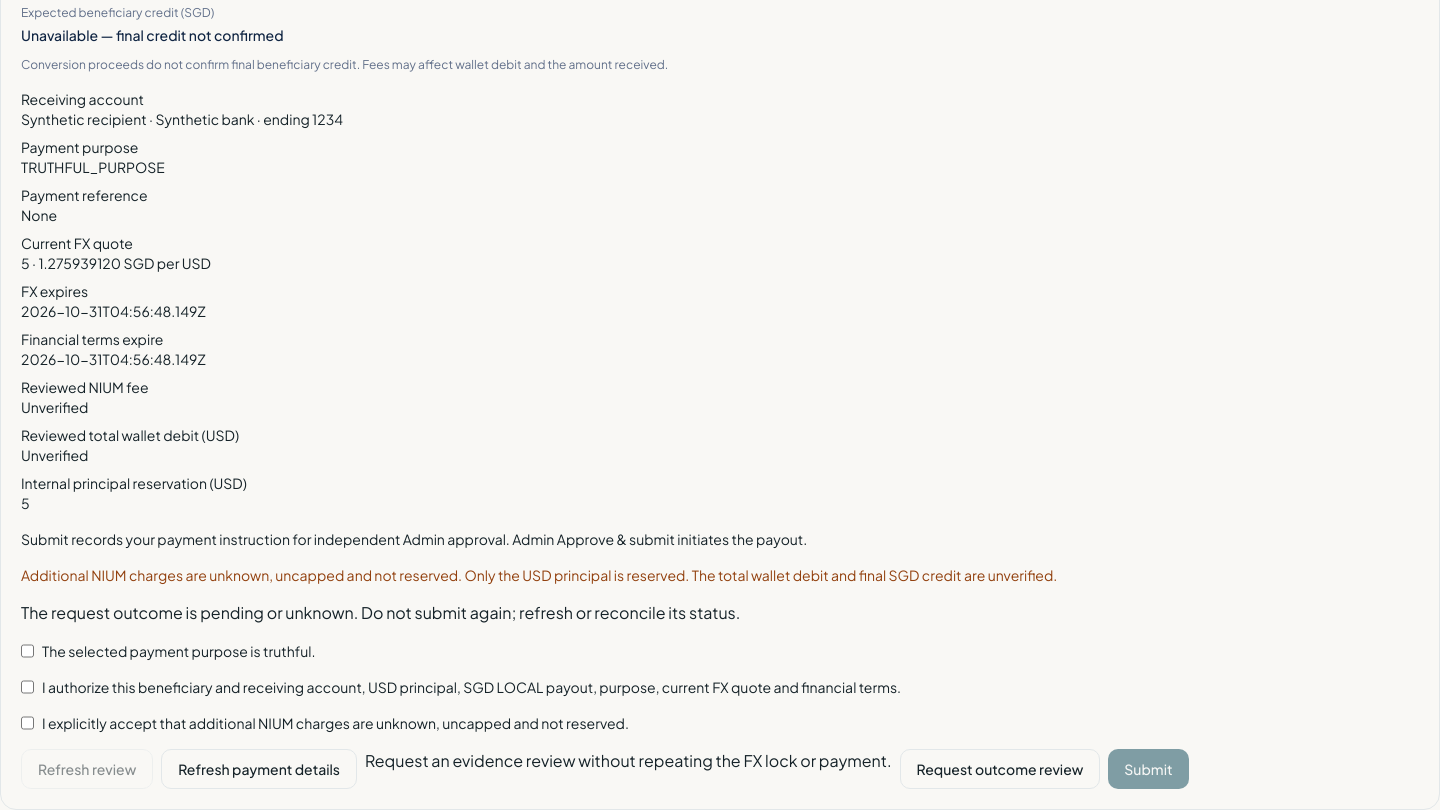
Test: SGD LOCAL Review → Submit › requests a durable evidence review without repeating an unknown FX operation
(page scrolled)
Click the button "Request outcome review". click: point(1000, 769)
box: [900,749,1100,789]
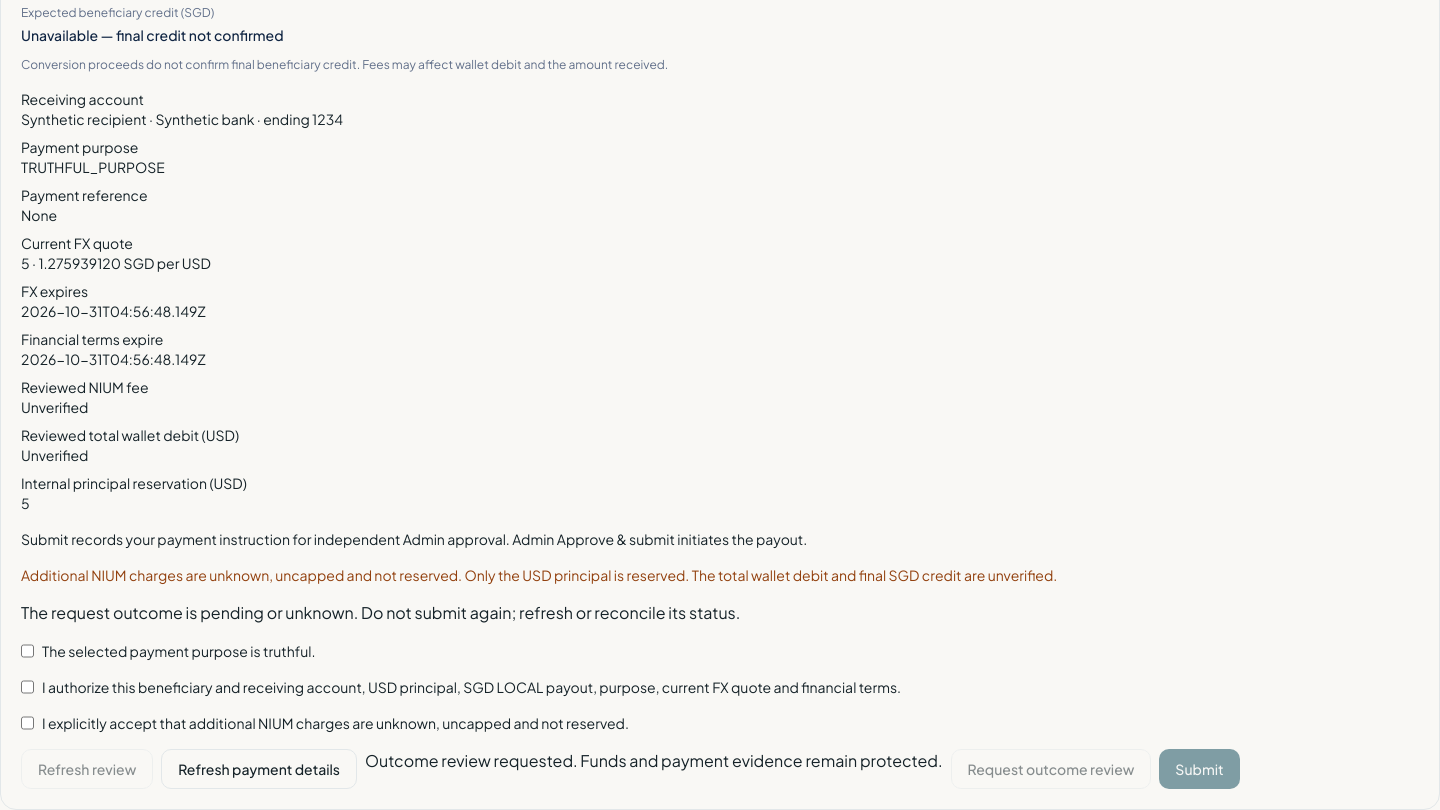
Result: the button "Request outcome review" is disabled at [951,749,1151,789]
